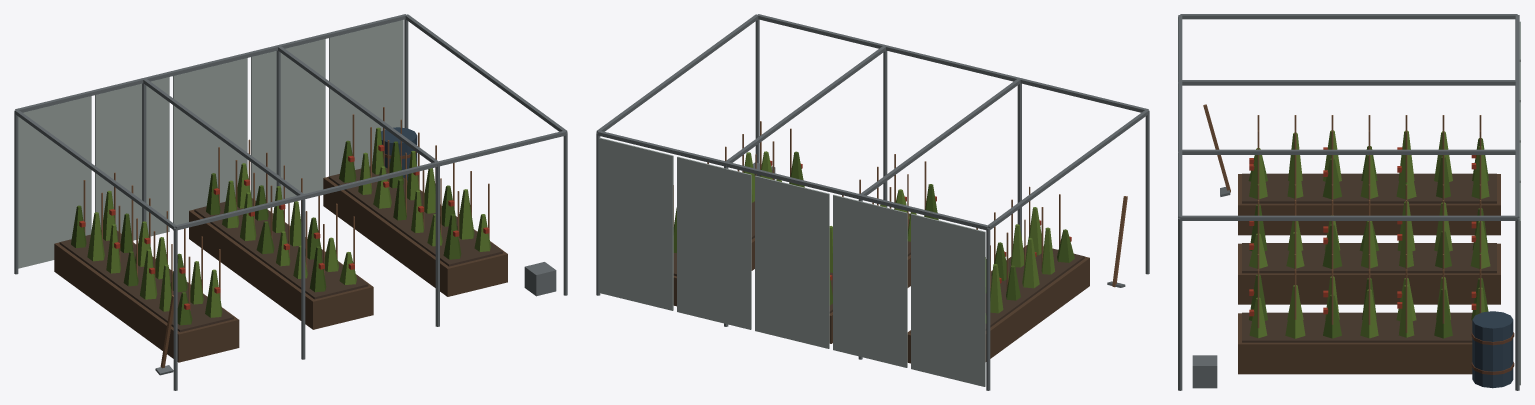
Rendered from room_farm_2.glb.
3 renders of one model, left to right at view 1: azimuth 30°, elevation 25°; view 2: azimuth 150°, elevation 25°; view 3: azimuth 270°, elevation 25°, orthographic. The views are drawn at different scales.
Parts seen in each view (by area): view 1: room_farm_2; view 2: room_farm_2; view 3: room_farm_2.
Part boxes in pixels (bbox=[...]): room_farm_2: bbox=[14, 14, 567, 390]; room_farm_2: bbox=[596, 14, 1149, 390]; room_farm_2: bbox=[1178, 14, 1520, 390].
Bounding box in the file's own units: 5.86 × 2.33 × 4.17.
